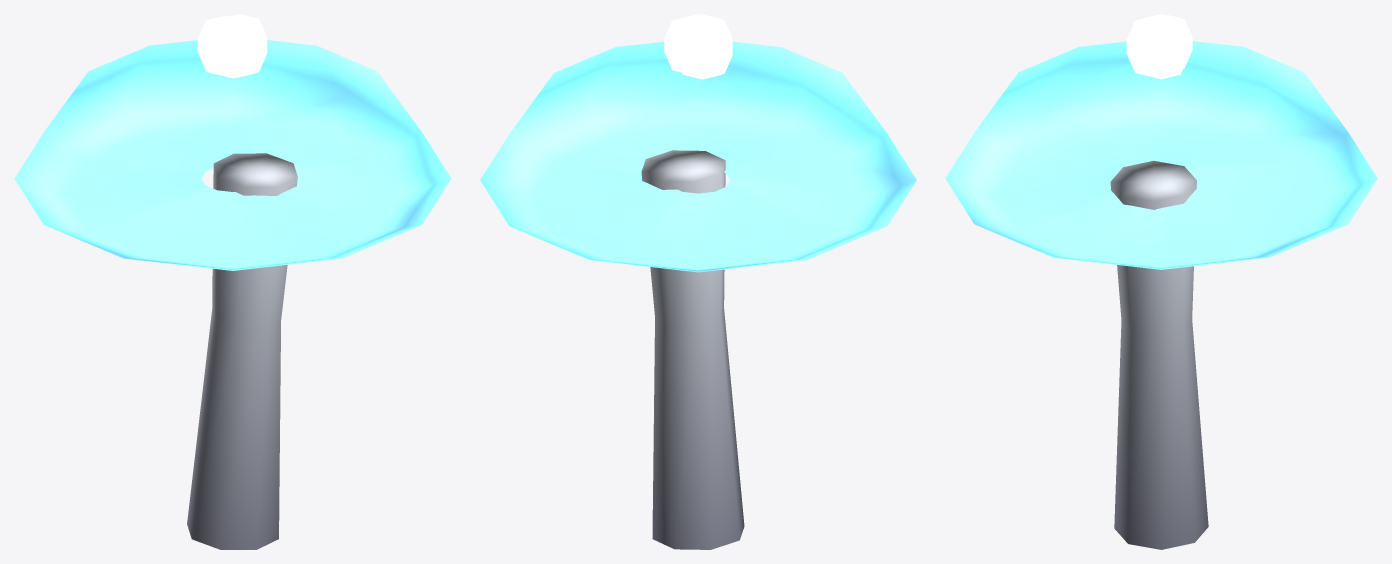
Rendered from mushroom_big.glb.
The picture shows the model from 3 angles, left to right: view 1: azimuth 30°, elevation 25°; view 2: azimuth 150°, elevation 25°; view 3: azimuth 270°, elevation 25°; orthographic projection.
Visible parts, largest first — view 1: Mushroom; view 2: Mushroom; view 3: Mushroom.
Boxes of the visible parts, box(x1,y1,x2,y2) form: Mushroom: box(14, 14, 451, 549); Mushroom: box(480, 14, 916, 549); Mushroom: box(945, 14, 1377, 549).
Bounding box in the file's own units: 2.42 × 3.16 × 2.42.
